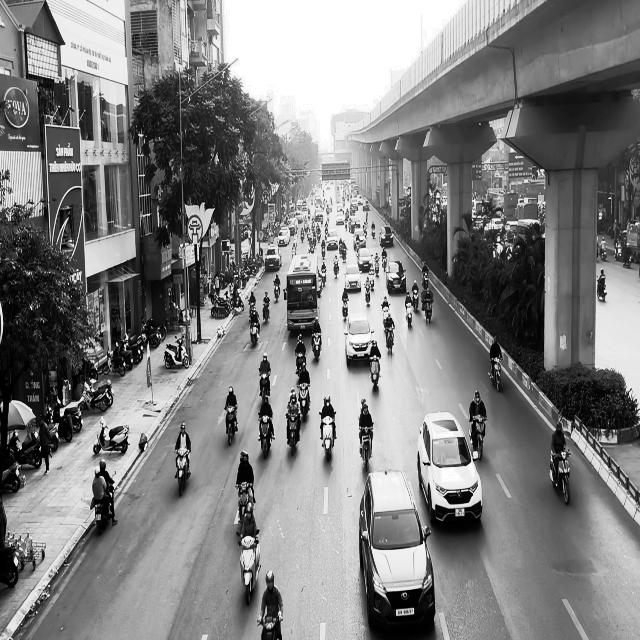bus: (286, 269, 318, 332)
car: (358, 468, 436, 630), (417, 410, 483, 524), (343, 311, 375, 367), (385, 260, 406, 294), (344, 264, 361, 290), (379, 226, 394, 246)
motorbike: (236, 529, 261, 606), (93, 416, 129, 455), (90, 484, 115, 535), (549, 449, 571, 504), (319, 410, 336, 462), (235, 482, 255, 524), (174, 448, 191, 497), (469, 415, 487, 460), (164, 336, 189, 368), (358, 424, 374, 472), (258, 412, 274, 459), (286, 410, 300, 456), (224, 404, 238, 446), (488, 356, 502, 392), (298, 383, 310, 422), (369, 355, 381, 389), (259, 370, 270, 402), (384, 321, 394, 355), (311, 331, 322, 361), (294, 348, 306, 375), (249, 318, 260, 346), (596, 275, 607, 301), (262, 300, 270, 323), (405, 302, 412, 328), (364, 280, 371, 305), (412, 289, 419, 312), (273, 280, 280, 302), (342, 297, 348, 320), (333, 258, 339, 278)
